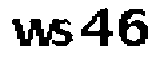4: (79, 5, 115, 53)
6: (116, 5, 151, 52)
s: (52, 17, 73, 50)
w: (11, 15, 55, 51)
